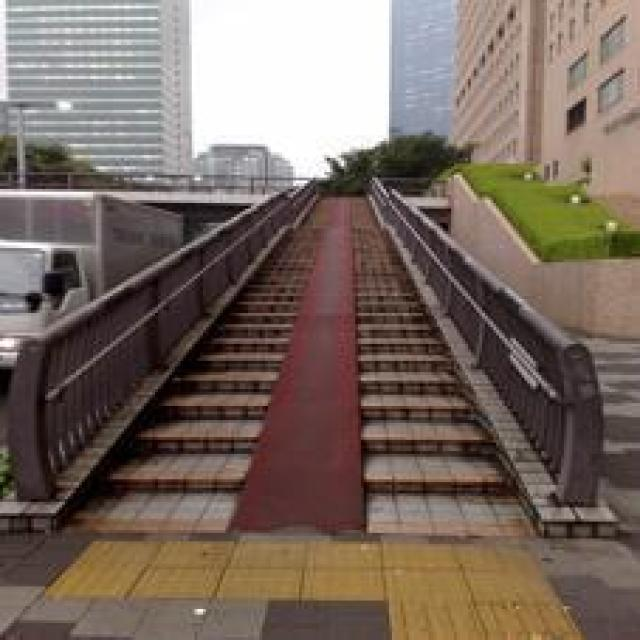upstair: (114, 421, 525, 588)
